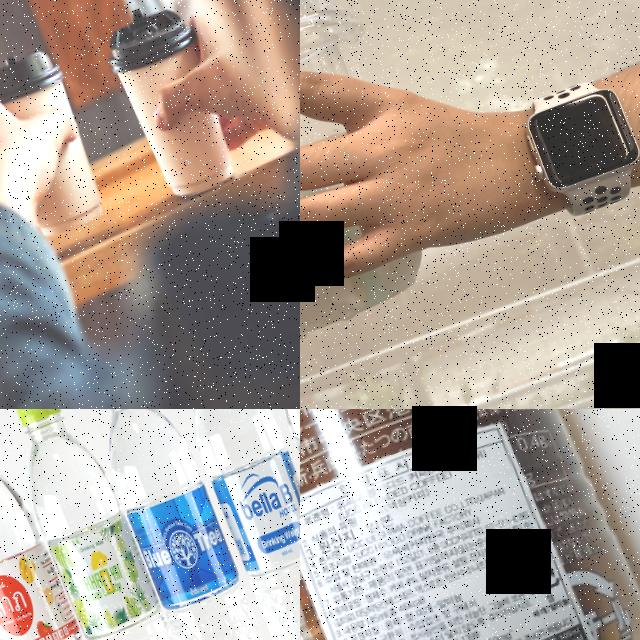bottle: (0, 409, 246, 640), (75, 409, 300, 640), (0, 412, 162, 640), (164, 409, 300, 640)
can: (300, 409, 640, 640)
cup: (300, 0, 467, 368), (94, 0, 246, 206), (0, 36, 119, 247)
